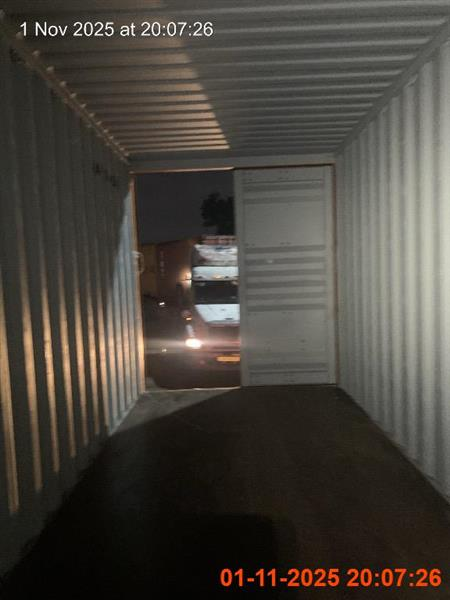broken: (140, 234, 241, 389), (141, 234, 241, 388)
